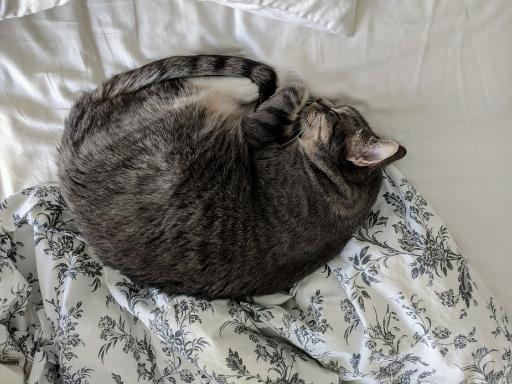cat_sleeping: (57, 56, 404, 300)
